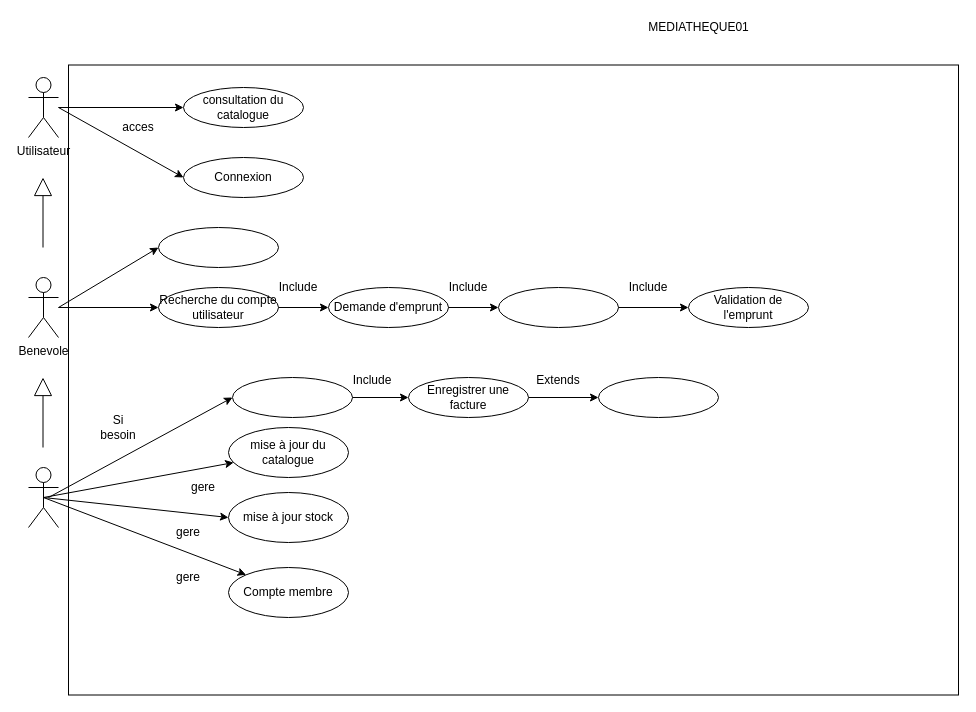
The diagram is 976 pixels wide and 712 high, and some of its shapes have lost their labels. Each missing label, with the box of its shape:
Consulter liste membre: (158, 226, 278, 268)
Demande de payement a l'api: (232, 376, 352, 418)
Editer une facture: (598, 376, 718, 418)
employé: (28, 466, 58, 528)
Enregistrement de l'emprunt: (498, 286, 618, 328)
